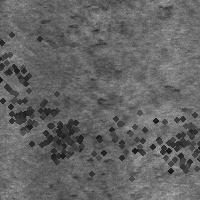rolled-in_scale: (61, 79, 177, 195), (0, 18, 56, 122), (53, 126, 125, 200), (139, 99, 200, 181), (0, 79, 61, 143), (31, 105, 93, 167), (63, 11, 108, 77)
